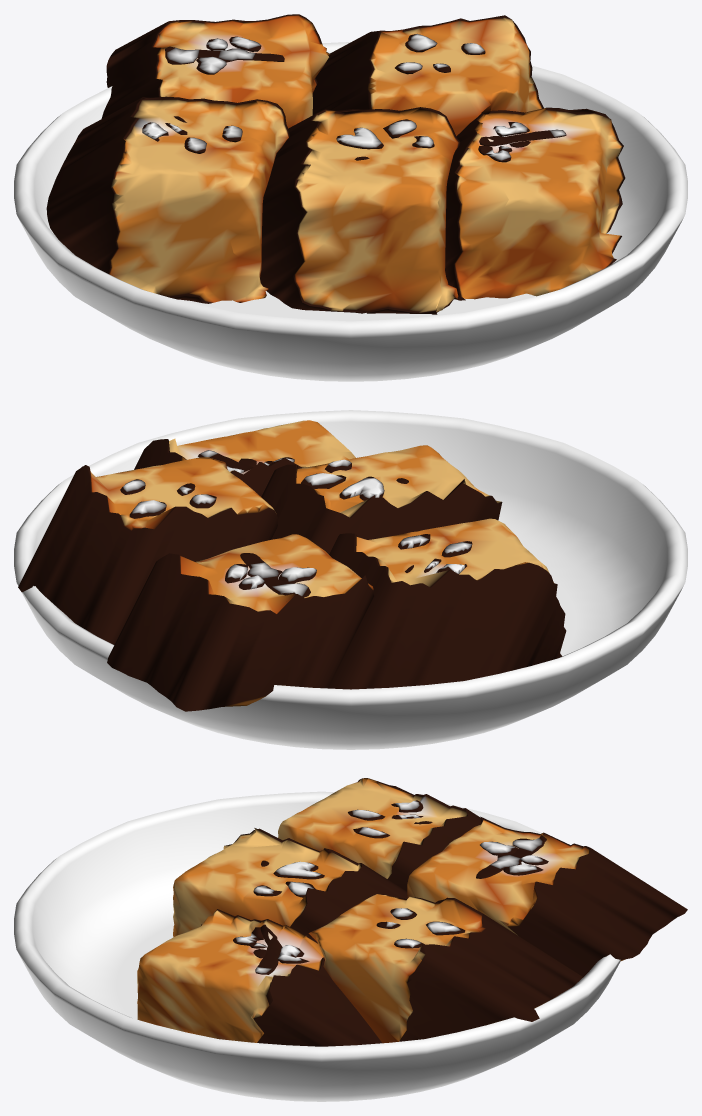
3 views of the same model, one above another, from view 1: azimuth 30°, elevation 25°; view 2: azimuth 150°, elevation 25°; view 3: azimuth 270°, elevation 25° (orthographic). The views are drawn at different scales.
Parts seen in each view (by area): view 1: SM_D05; view 2: SM_D05; view 3: SM_D05.
Boxes of the visible parts, bbox=[...] form: SM_D05: bbox=[14, 14, 687, 381]; SM_D05: bbox=[14, 410, 687, 749]; SM_D05: bbox=[14, 778, 687, 1101].
Size of the model in its own units: 0.213 by 0.0628 by 0.2315.
